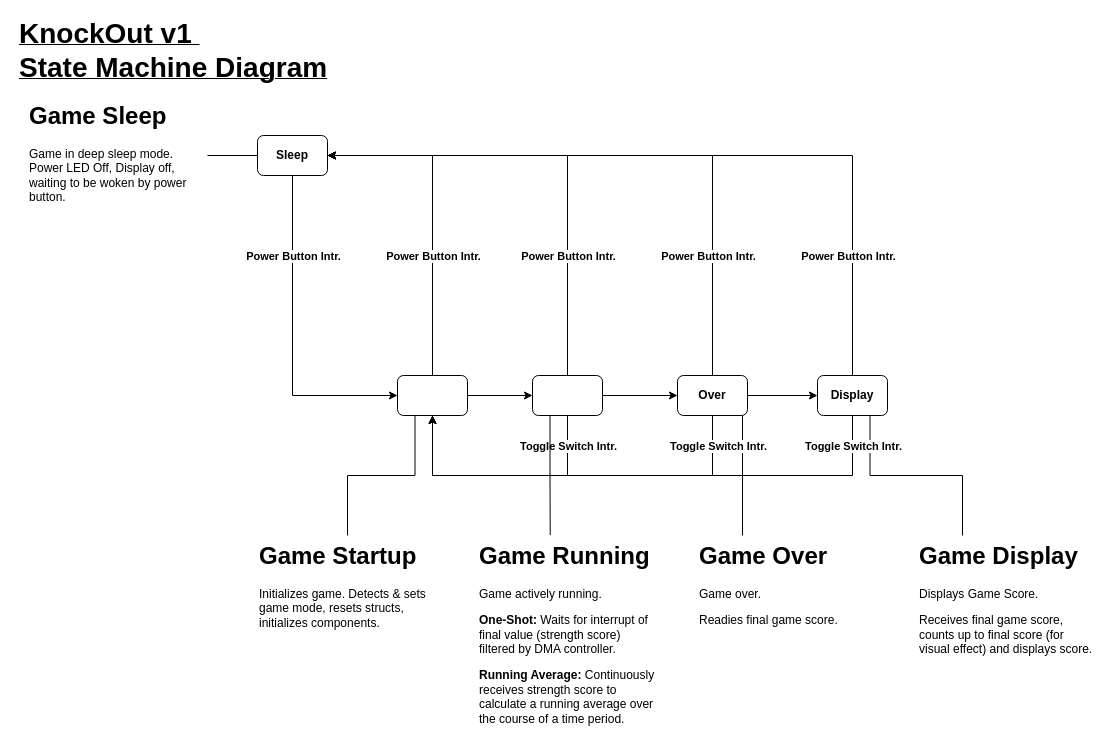
This 1114x756 diagram has some shape labels left out. The centre of each missing label's shape, as x and y in pixels:
"Running" belongs at point 567,395.
"Startup" belongs at point 432,395.
